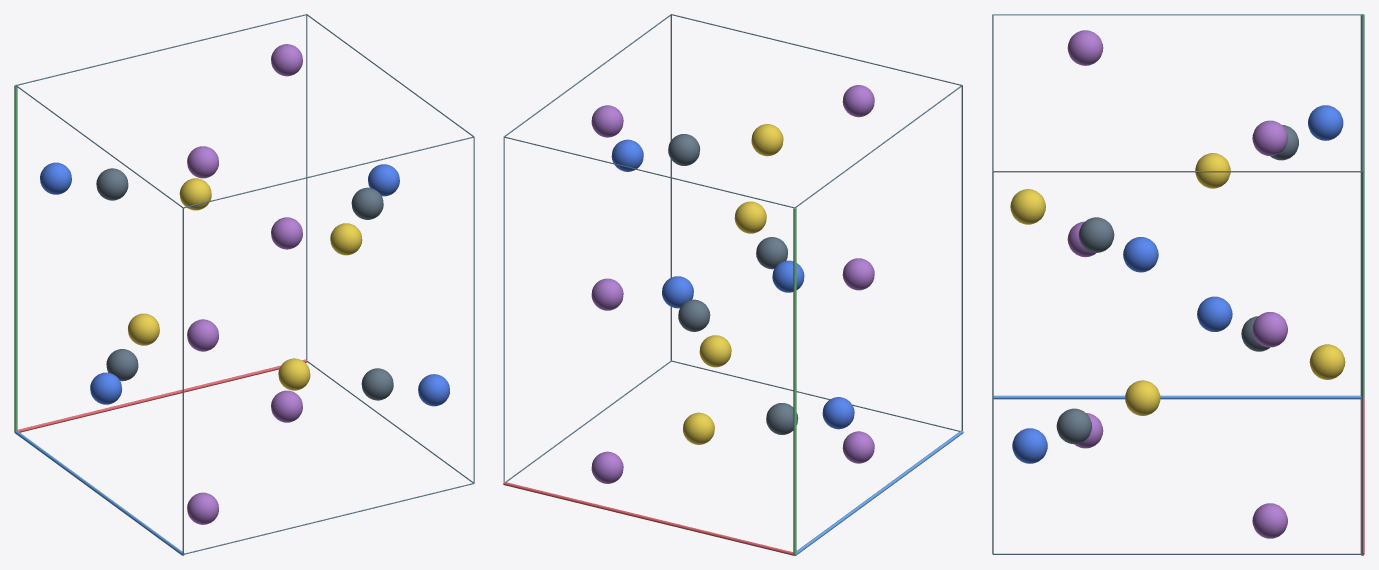
File: chat-potassium-thiocyanate.glb
3 views of the same model, side by side, from view 1: azimuth 30°, elevation 25°; view 2: azimuth 150°, elevation 25°; view 3: azimuth 270°, elevation 25° (orthographic). The views are drawn at different scales.
Parts seen in each view (by area): view 1: Ô mạng và các trục a, b, c, K1 · K · 1 (×6), S1 · S · 1 (×4), C1 · C · 1 (×4), N1 · N · 1 (×4); view 2: Ô mạng và các trục a, b, c, K1 · K · 1 (×6), S1 · S · 1 (×4), C1 · C · 1 (×4), N1 · N · 1 (×4); view 3: Ô mạng và các trục a, b, c, N1 · N · 1 (×4), K1 · K · 1 (×4), S1 · S · 1 (×4), C1 · C · 1 (×2).
Boxes of the visible parts, left/top/right/bottom form: Ô mạng và các trục a, b, c: left=14, top=14, right=474, bottom=555; K1 · K · 1 (×6): left=187, top=44, right=302, bottom=524; S1 · S · 1 (×4): left=128, top=178, right=362, bottom=390; C1 · C · 1 (×4): left=96, top=168, right=393, bottom=400; N1 · N · 1 (×4): left=40, top=162, right=449, bottom=406; Ô mạng và các trục a, b, c: left=503, top=14, right=963, bottom=555; K1 · K · 1 (×6): left=591, top=85, right=874, bottom=483; S1 · S · 1 (×4): left=683, top=124, right=783, bottom=444; C1 · C · 1 (×4): left=668, top=134, right=798, bottom=434; N1 · N · 1 (×4): left=611, top=139, right=854, bottom=429; Ô mạng và các trục a, b, c: left=992, top=14, right=1364, bottom=555; N1 · N · 1 (×4): left=1012, top=105, right=1343, bottom=463; K1 · K · 1 (×4): left=1067, top=30, right=1287, bottom=538; S1 · S · 1 (×4): left=1010, top=153, right=1345, bottom=415; C1 · C · 1 (×2): left=1056, top=217, right=1114, bottom=444.
Size of the model in its own units: 6.71 by 8.22 by 6.68.
